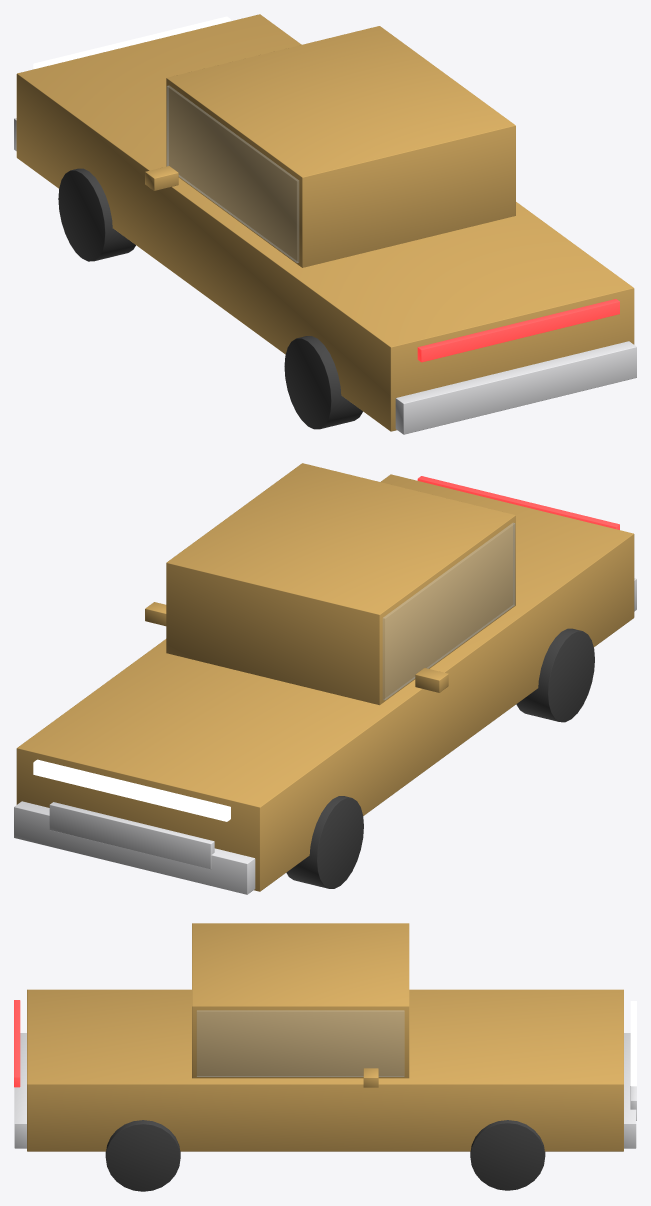
Rendered from vehicle.glb.
3 views of the same model, one above another, from view 1: azimuth 30°, elevation 25°; view 2: azimuth 150°, elevation 25°; view 3: azimuth 270°, elevation 25° (orthographic). The views are drawn at different scales.
Visible parts, largest first — view 1: BODY_Main, BODY_Roof, GLASS_Greenhouse, BODY_Bumpers_Rear, WHEEL_RR_Tire, WHEEL_FR_Tire, LIGHT_Taillights, LIGHT_Headlights, BODY_Mirror_R; view 2: BODY_Main, BODY_Roof, GLASS_Greenhouse, BODY_Bumpers_Front, BODY_Grille, WHEEL_RR_Tire, WHEEL_FR_Tire, LIGHT_Headlights, LIGHT_Taillights, BODY_Mirror_R; view 3: BODY_Main, BODY_Roof, GLASS_Greenhouse, WHEEL_RL_Tire, WHEEL_FL_Tire, BODY_Bumpers_Rear, BODY_Bumpers_Front, LIGHT_Taillights, LIGHT_Headlights.
Boxes of the visible parts, x1,y1,x2,y2 form: BODY_Main: (16,14,634,431); BODY_Roof: (166,26,515,267); GLASS_Greenhouse: (166,85,298,262); BODY_Bumpers_Rear: (395,341,636,434); WHEEL_RR_Tire: (284,336,362,429); WHEEL_FR_Tire: (58,168,135,261); LIGHT_Taillights: (417,299,619,362); LIGHT_Headlights: (33,16,230,69); BODY_Mirror_R: (145,166,178,190); BODY_Main: (16,474,634,891); BODY_Roof: (166,463,515,705); GLASS_Greenhouse: (383,523,515,700); BODY_Bumpers_Front: (14,801,255,894); BODY_Grille: (49,802,214,869); WHEEL_RR_Tire: (516,628,594,722); WHEEL_FR_Tire: (286,796,363,888); LIGHT_Headlights: (33,759,230,821); LIGHT_Taillights: (417,476,619,529); BODY_Mirror_R: (415,668,448,692); BODY_Main: (27,989,623,1151); BODY_Roof: (192,923,409,1078); GLASS_Greenhouse: (197,1010,404,1076); WHEEL_RL_Tire: (105,1120,180,1191); WHEEL_FL_Tire: (470,1120,545,1190); BODY_Bumpers_Rear: (14,1033,26,1148); BODY_Bumpers_Front: (624,1033,636,1148); LIGHT_Taillights: (14,1000,20,1087); LIGHT_Headlights: (630,1001,636,1086).
Bounding box in the file's own units: 2.17 × 1.55 × 4.99.
